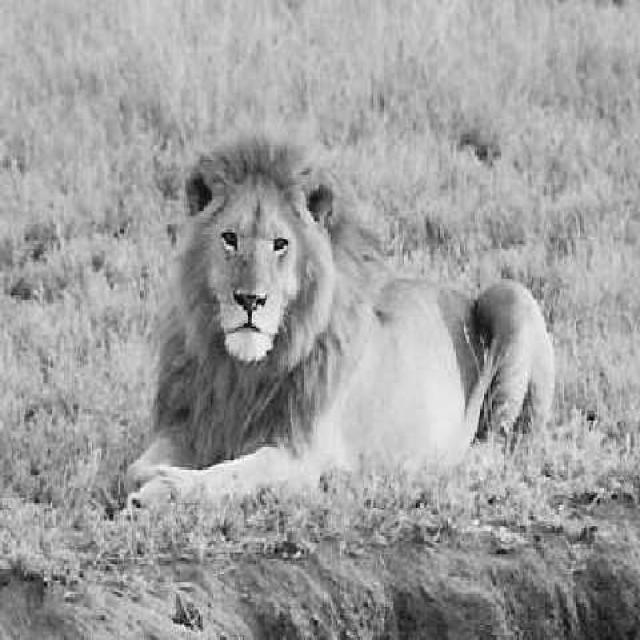Lion: (151, 114, 472, 497)
